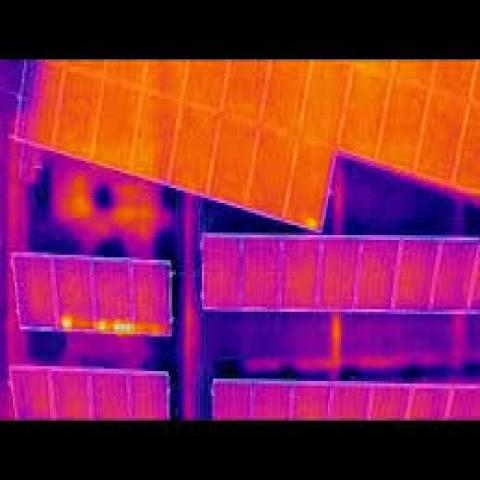fault: (111, 319, 135, 337), (59, 316, 74, 332), (308, 215, 317, 230), (96, 319, 106, 332)
